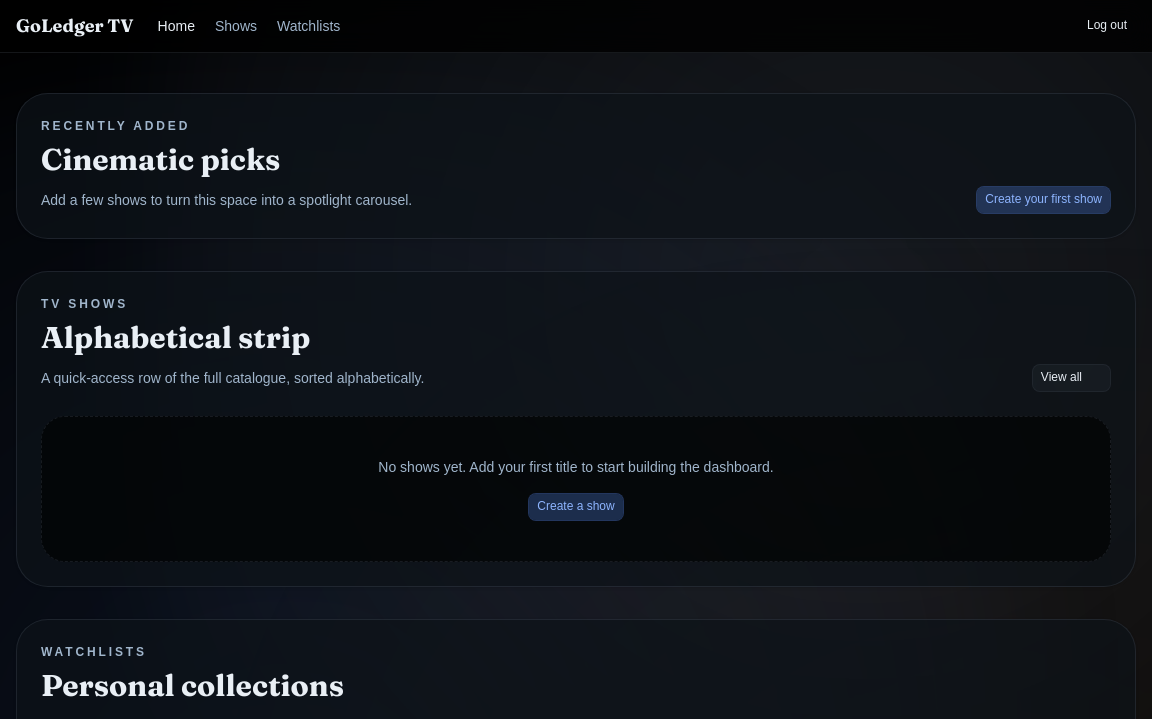
Scenario: authentication workflow › logs out from the protected shell and returns to login
Click the button "Log out": click(1107, 26) [1078,14,1136,38]
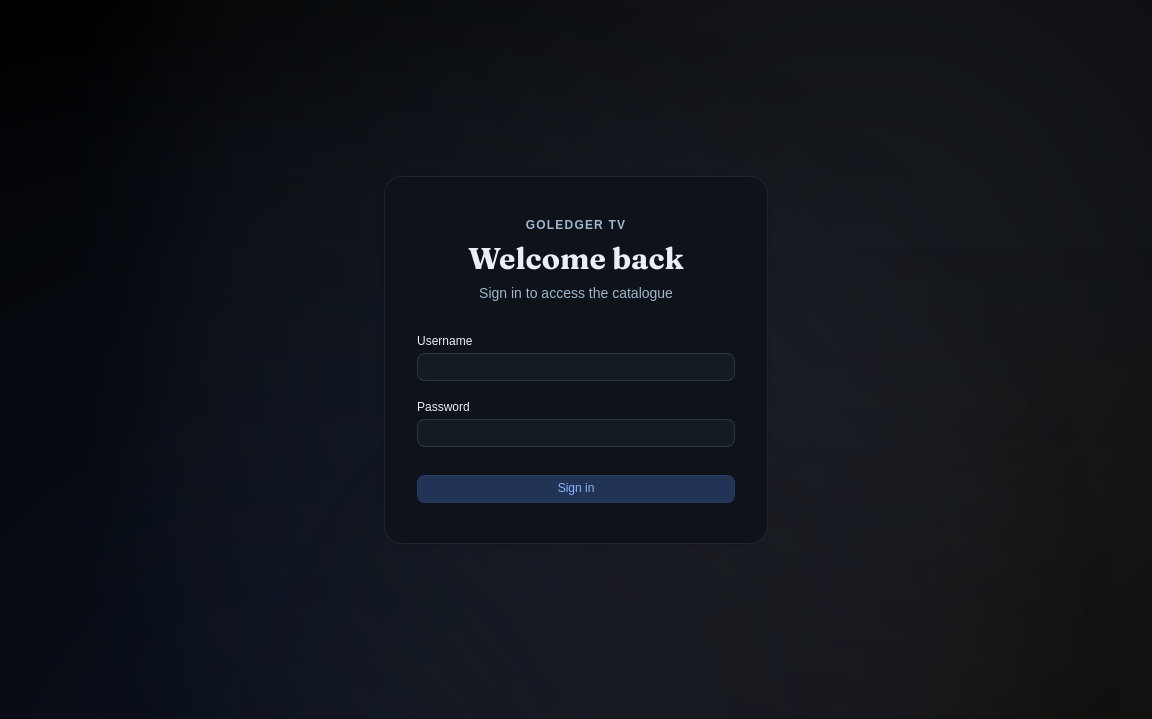
Expected: the heading "Welcome back" is shown, [468,240,684,277]
